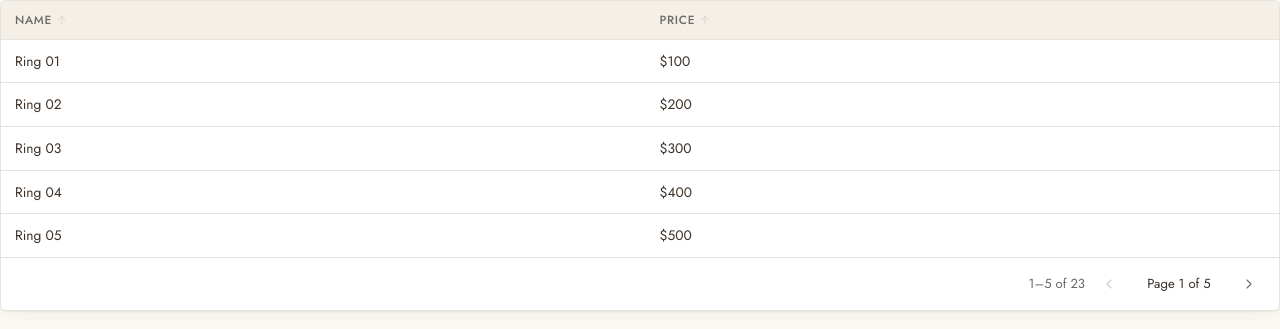
Scenario: DataTable › sorts when a column header is clicked, and reverses on a second click
Click the button "Price": (685, 20) top-left (660, 11), bottom-right (711, 29)
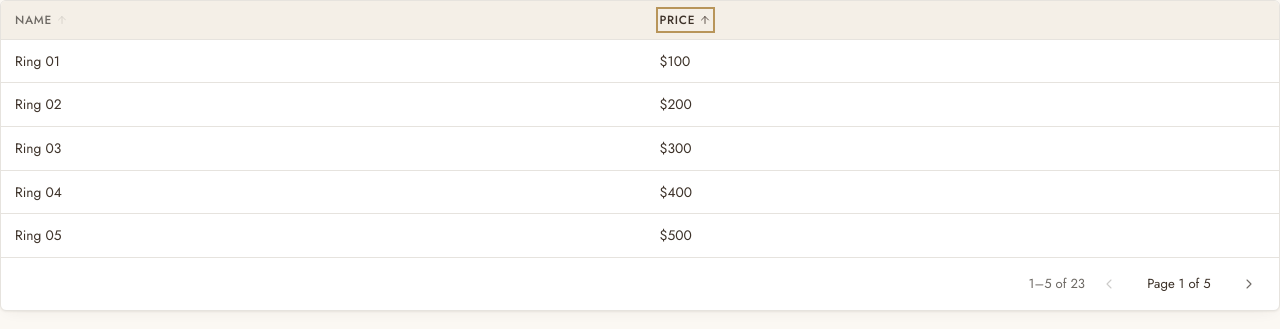
Check: the row "Ring 01 $100" is shown, box top-left (1, 40), bottom-right (1279, 83)
Click the button "Price": (685, 20) top-left (660, 11), bottom-right (711, 29)
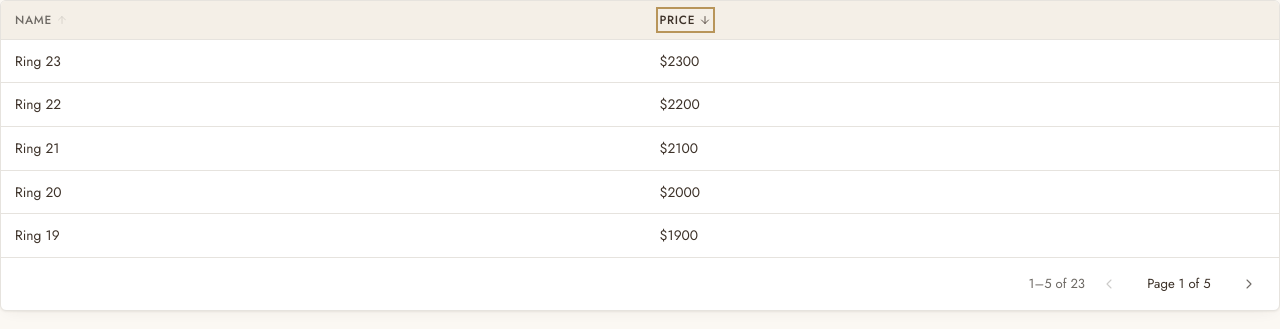
Check: the row "Ring 23 $2300" is shown, box top-left (1, 40), bottom-right (1279, 83)
